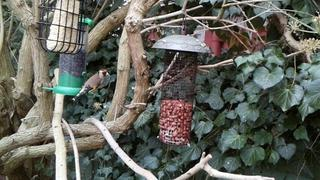goldfinch: (71, 68, 111, 104)
